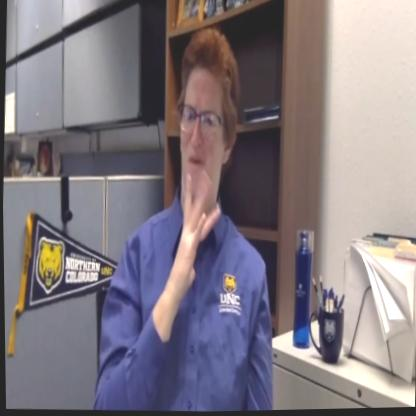Talk: (157, 15, 266, 310)
